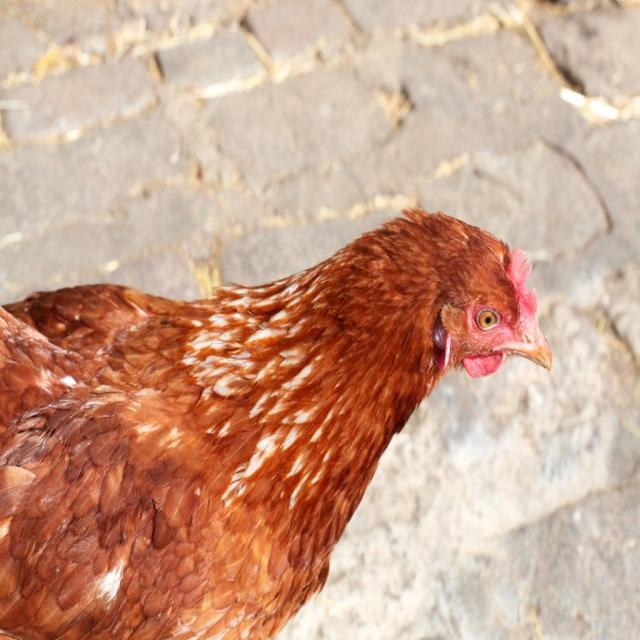Chicken: (0, 205, 552, 640)
